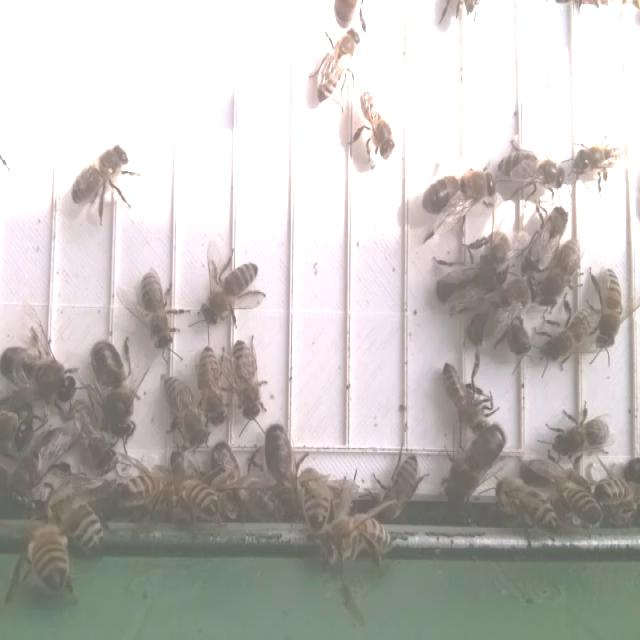Drone: (461, 271, 542, 354), (87, 338, 138, 444), (445, 419, 508, 504), (0, 341, 78, 407), (417, 166, 501, 222), (432, 255, 514, 312), (259, 422, 300, 522)
Worker: (69, 142, 130, 210), (199, 259, 260, 326), (312, 26, 362, 104), (160, 370, 208, 448), (522, 204, 570, 280), (441, 359, 490, 431), (540, 307, 594, 367), (139, 270, 176, 356), (195, 342, 231, 429), (496, 144, 562, 190), (550, 415, 612, 463), (594, 267, 626, 356), (233, 338, 264, 424), (359, 89, 395, 163), (570, 140, 630, 179)
